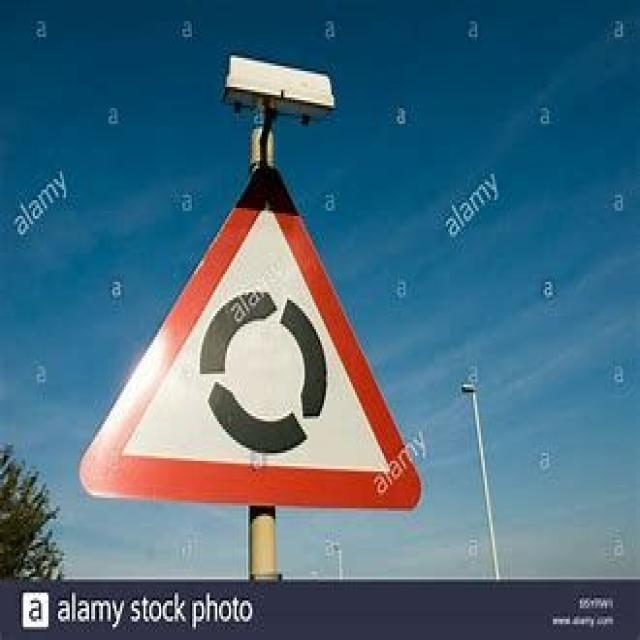roundabout: (71, 155, 428, 522)
